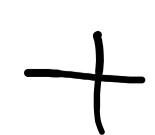plus: (24, 32, 144, 135)
